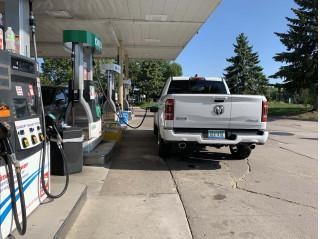ram: (212, 102, 229, 119)
